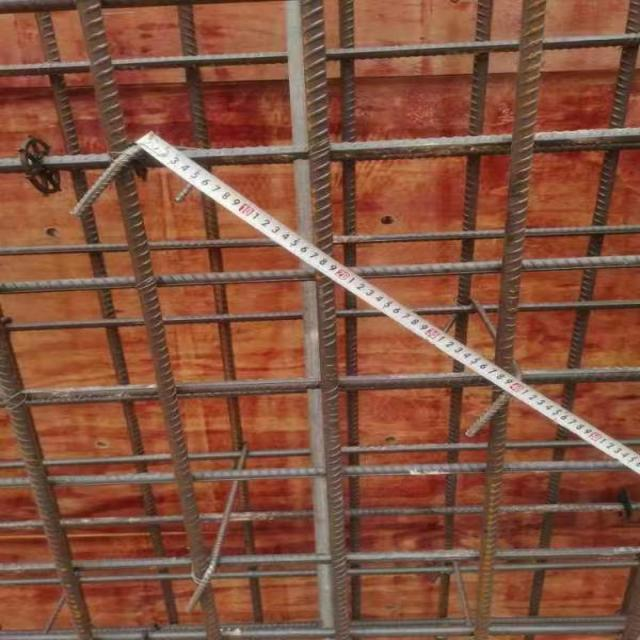ribbed bar: (71, 0, 222, 638), (31, 0, 183, 626), (523, 0, 639, 639), (172, 0, 263, 624), (466, 0, 549, 634), (437, 0, 497, 619), (295, 0, 348, 638), (4, 126, 638, 176), (0, 306, 95, 639), (0, 32, 638, 78), (0, 252, 638, 295), (28, 364, 638, 406), (3, 498, 637, 534), (0, 435, 638, 470), (8, 298, 638, 333), (0, 223, 638, 257), (0, 457, 638, 490), (0, 545, 638, 576), (338, 0, 361, 618)
